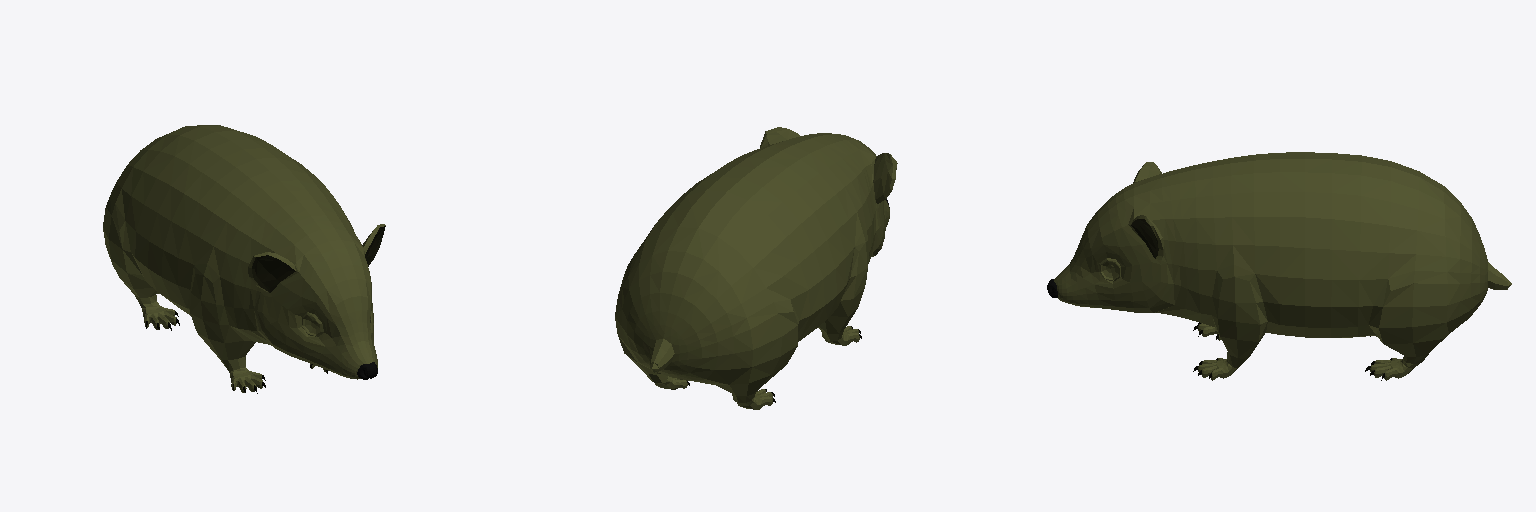
File: hedgehog_hedgehog.obj
3 renders of one model, left to right at view 1: azimuth 30°, elevation 25°; view 2: azimuth 150°, elevation 25°; view 3: azimuth 270°, elevation 25°, orthographic.
Parts seen in each view (by area): view 1: hedgehog; view 2: hedgehog; view 3: hedgehog.
Boxes of the visible parts, x1,y1,x2,y2 form: hedgehog: [103, 125, 385, 393]; hedgehog: [615, 127, 897, 409]; hedgehog: [1047, 152, 1511, 380].
Bounding box in the file's own units: 0.0833 × 0.0938 × 0.2031.